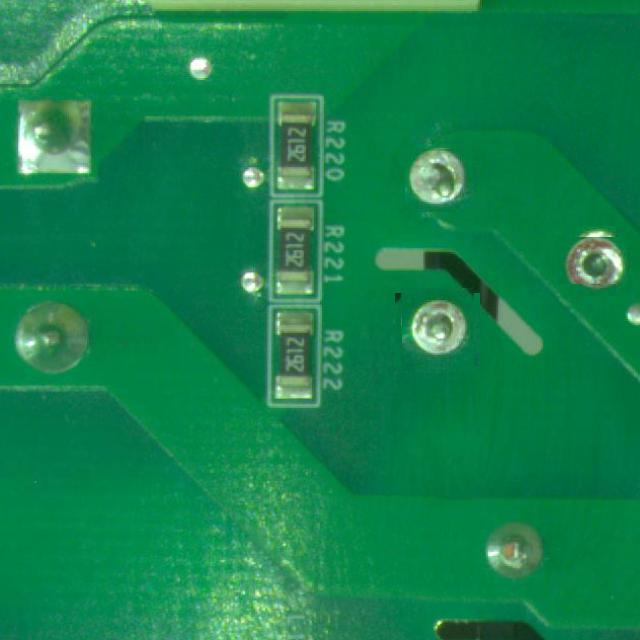lack_of_part: (398, 291, 477, 370), (407, 146, 472, 211), (563, 232, 622, 290)
